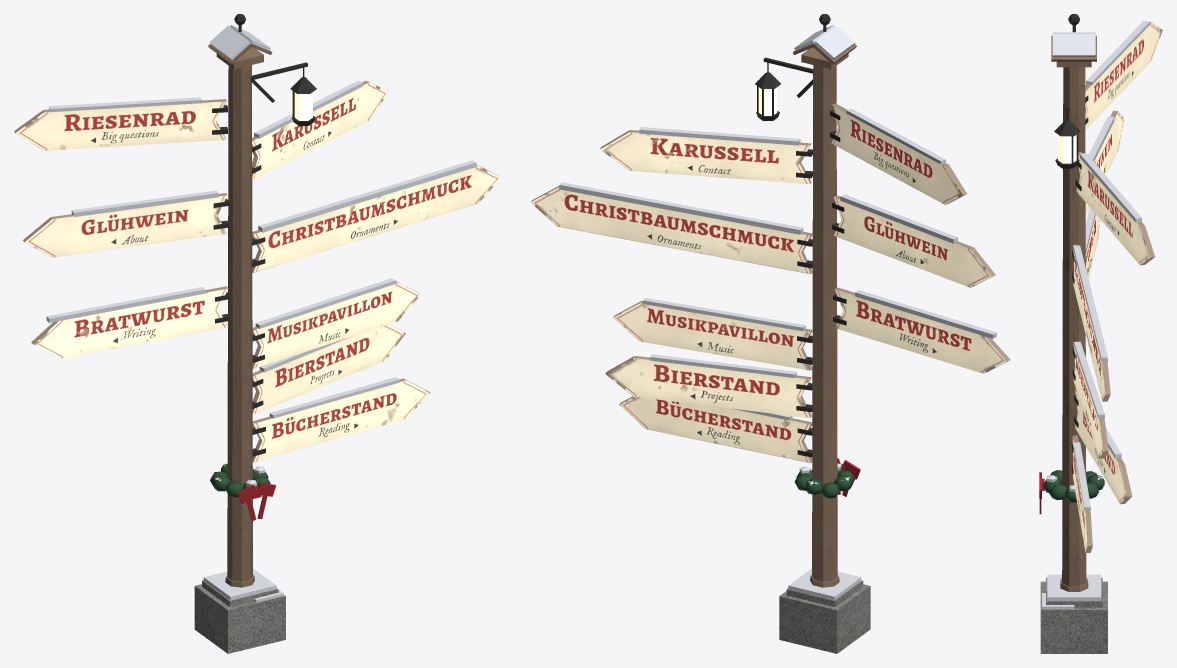
The model's file is signpost.lite.glb.
The picture shows the model from 3 angles, left to right: view 1: azimuth 30°, elevation 25°; view 2: azimuth 150°, elevation 25°; view 3: azimuth 270°, elevation 25°; orthographic projection.
Parts seen in each view (by area): view 1: sign_post, snow_sign, act_sign_schmuck, act_sign_riesenrad, act_sign_gluehwein, act_sign_bratwurst, act_sign_buecherstand, act_sign_bandstand, act_sign_bierstand, sign_plinth, act_sign_karussell, sign_ironwork (+2 smaller); view 2: sign_post, snow_sign, act_sign_schmuck, act_sign_karussell, act_sign_bierstand, act_sign_bandstand, act_sign_buecherstand, act_sign_bratwurst, act_sign_gluehwein, sign_plinth, act_sign_riesenrad, sign_ironwork (+1 smaller); view 3: sign_post, snow_sign, sign_plinth, act_sign_riesenrad, act_sign_karussell, act_sign_bierstand, act_sign_schmuck, act_sign_bandstand, act_sign_gluehwein, sign_wreath, sign_ironwork, act_sign_buecherstand (+2 smaller).
Part boxes in pixels (x1,y1,x2,y2): sign_post: [208, 43, 272, 587]; snow_sign: [46, 25, 476, 602]; act_sign_schmuck: [252, 164, 501, 272]; act_sign_riesenrad: [14, 99, 226, 150]; act_sign_gluehwein: [23, 193, 227, 257]; act_sign_bratwurst: [31, 286, 228, 358]; act_sign_buecherstand: [252, 378, 430, 462]; act_sign_bandstand: [252, 281, 420, 368]; act_sign_bierstand: [252, 324, 405, 414]; sign_plinth: [194, 580, 285, 653]; act_sign_karussell: [252, 80, 388, 179]; sign_ironwork: [234, 14, 316, 125]; sign_post: [793, 43, 856, 587]; snow_sign: [559, 25, 996, 600]; act_sign_schmuck: [530, 186, 812, 274]; act_sign_karussell: [600, 130, 811, 184]; act_sign_bierstand: [605, 356, 811, 417]; act_sign_bandstand: [613, 301, 812, 370]; act_sign_buecherstand: [619, 396, 812, 463]; act_sign_bratwurst: [835, 287, 1010, 373]; act_sign_gluehwein: [833, 195, 995, 287]; sign_plinth: [779, 580, 870, 653]; act_sign_riesenrad: [831, 103, 966, 204]; sign_ironwork: [755, 14, 830, 120]; sign_post: [1051, 35, 1096, 591]; snow_sign: [1042, 20, 1149, 609]; sign_plinth: [1040, 577, 1107, 653]; act_sign_riesenrad: [1085, 22, 1162, 129]; act_sign_karussell: [1076, 152, 1155, 265]; act_sign_bierstand: [1075, 389, 1132, 504]; act_sign_schmuck: [1073, 244, 1110, 401]; act_sign_bandstand: [1073, 341, 1108, 458]; act_sign_gluehwein: [1085, 110, 1124, 214]; sign_wreath: [1044, 470, 1104, 502]; sign_ironwork: [1054, 14, 1080, 168]; act_sign_buecherstand: [1072, 435, 1092, 552].
Size of the model in its own units: 4.09 by 5.13 by 0.9173.
Materials: 9 (3 with a texture image).
